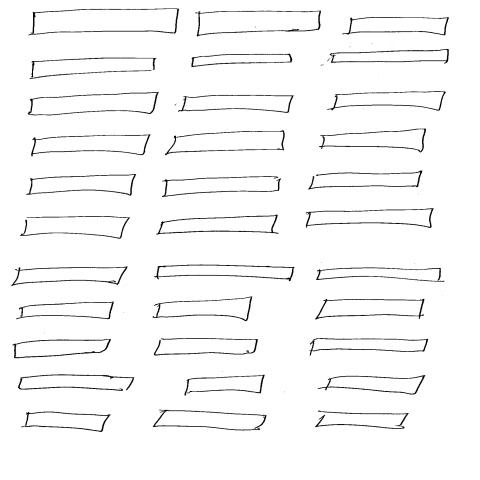Textbox: (31, 8, 180, 36), (29, 92, 159, 117), (197, 11, 322, 37), (165, 132, 286, 157), (31, 58, 157, 80), (306, 209, 435, 230), (321, 128, 428, 153), (20, 216, 131, 240), (31, 135, 151, 156), (163, 177, 281, 198), (11, 267, 128, 288), (153, 410, 269, 431), (28, 175, 138, 197), (156, 216, 279, 235), (315, 299, 426, 320), (332, 92, 447, 112), (156, 265, 295, 281), (308, 172, 423, 191), (181, 95, 295, 114), (317, 268, 443, 284), (18, 375, 135, 392), (153, 339, 259, 357), (347, 18, 450, 36), (25, 412, 113, 433), (315, 411, 410, 430), (331, 49, 451, 64), (21, 302, 115, 320), (311, 339, 429, 353), (192, 55, 293, 69)
